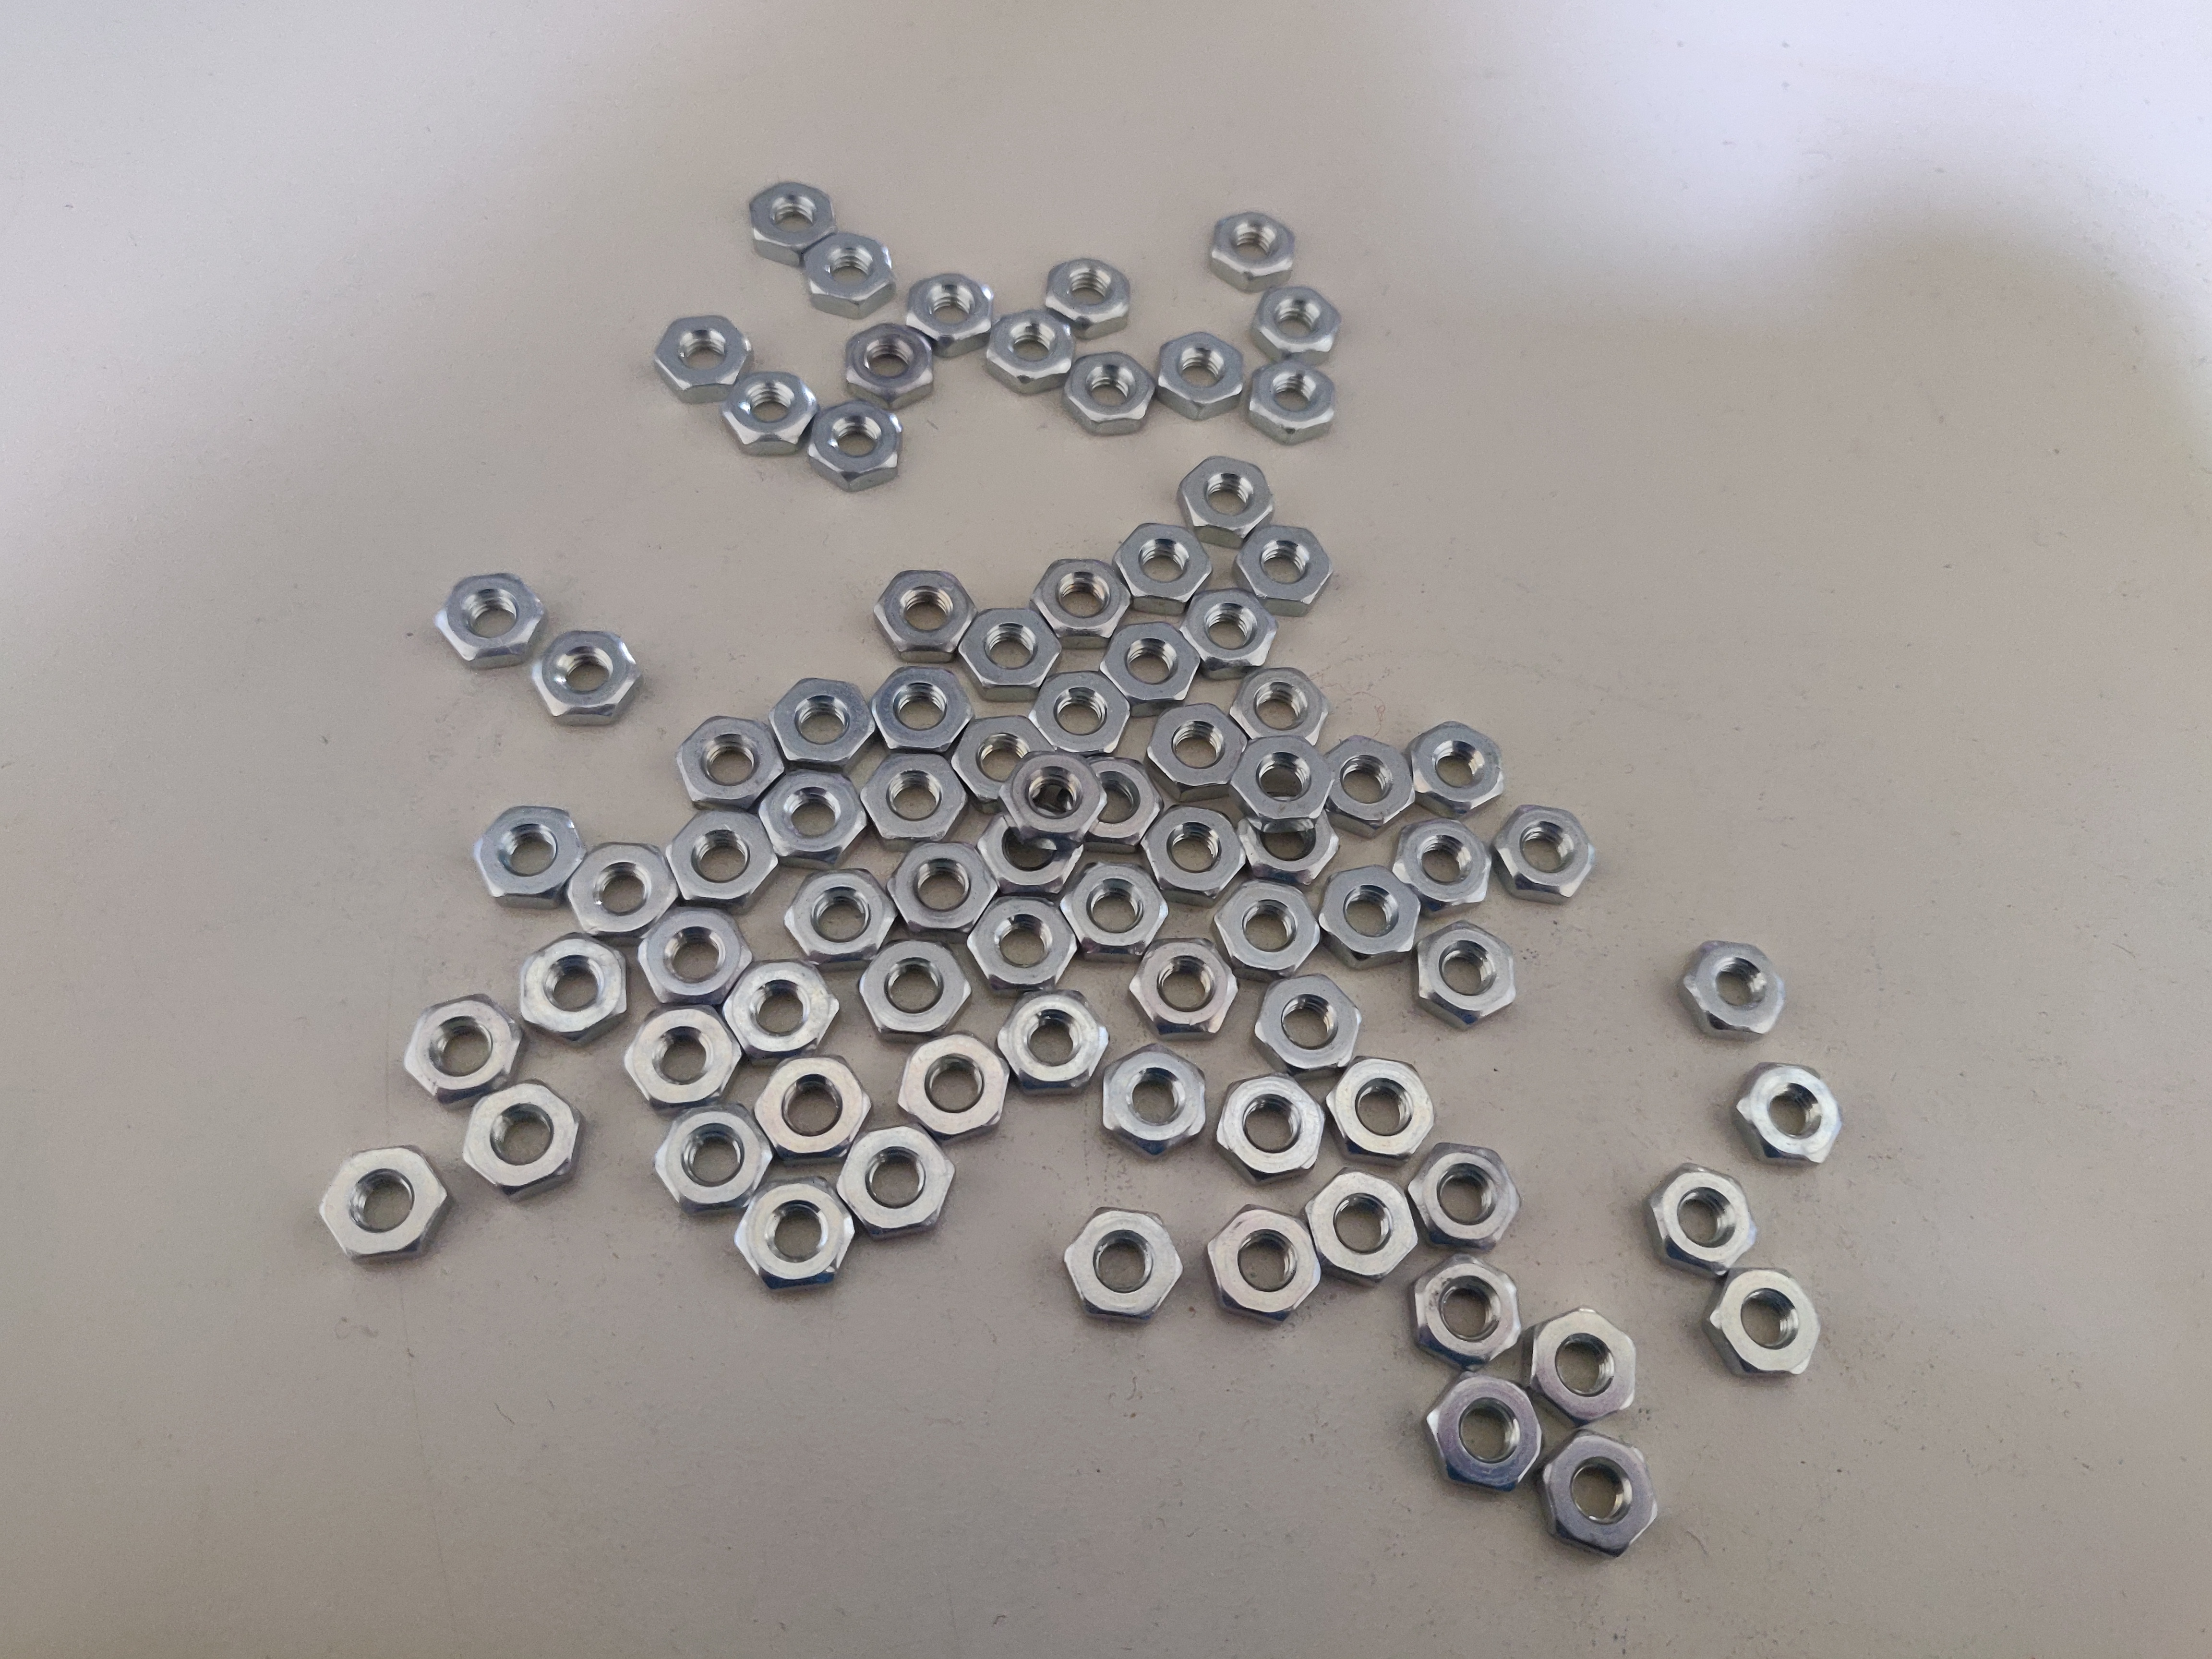nut: (833, 1122, 956, 1249), (317, 1148, 449, 1263), (458, 1084, 583, 1201), (1428, 1368, 1540, 1493), (1543, 1436, 1651, 1565), (1521, 1307, 1637, 1425), (618, 1009, 747, 1115), (1707, 1262, 1818, 1382), (512, 934, 631, 1044), (892, 1033, 1010, 1143), (1062, 1206, 1177, 1317), (1209, 1208, 1318, 1323), (732, 1183, 848, 1290), (1489, 802, 1599, 913), (777, 864, 897, 965), (1407, 1145, 1515, 1255), (1407, 1260, 1521, 1364), (641, 906, 752, 1011), (758, 1058, 871, 1161), (1737, 1065, 1839, 1178), (404, 999, 517, 1100), (427, 572, 542, 671), (1310, 1166, 1409, 1281), (1407, 925, 1522, 1025), (477, 807, 583, 913), (860, 938, 967, 1044), (1219, 1073, 1320, 1185), (653, 1112, 766, 1211), (1103, 1044, 1204, 1154), (1254, 976, 1359, 1080), (1320, 863, 1428, 964), (1066, 857, 1167, 964), (1332, 1058, 1432, 1166), (529, 627, 641, 723), (1686, 936, 1784, 1044), (968, 896, 1078, 992), (1000, 997, 1108, 1093), (1141, 802, 1242, 903), (1219, 870, 1317, 974), (674, 716, 780, 812), (887, 840, 995, 934), (726, 964, 838, 1054), (1656, 1162, 1756, 1263), (864, 662, 968, 758), (954, 605, 1061, 699), (1214, 882, 1320, 976), (1230, 789, 1341, 878), (1404, 713, 1507, 809), (752, 775, 869, 857), (674, 812, 775, 906), (1397, 817, 1500, 910), (1230, 734, 1332, 824), (1101, 617, 1195, 713), (810, 397, 904, 493), (578, 845, 676, 938), (775, 680, 873, 772), (1325, 732, 1416, 831), (864, 753, 960, 845), (1235, 519, 1331, 612), (1134, 946, 1231, 1037), (648, 314, 747, 403), (1202, 206, 1301, 295), (1181, 589, 1280, 676), (873, 570, 972, 655), (1247, 357, 1341, 446), (1170, 455, 1270, 538), (956, 716, 1047, 807), (1012, 753, 1106, 840), (1146, 704, 1242, 789), (1162, 331, 1247, 427), (719, 369, 810, 458), (1251, 274, 1341, 362), (1040, 559, 1127, 652), (982, 809, 1075, 896), (982, 308, 1078, 392), (1033, 676, 1129, 758), (1113, 525, 1209, 605), (1231, 667, 1329, 746), (1040, 251, 1130, 335), (1075, 758, 1157, 847), (813, 235, 897, 319), (749, 178, 831, 261), (1075, 350, 1150, 437), (914, 272, 995, 352)
